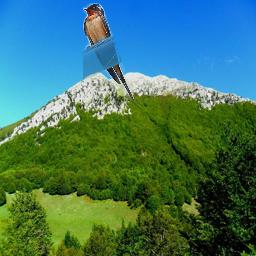Swallow: (83, 3, 134, 101)
